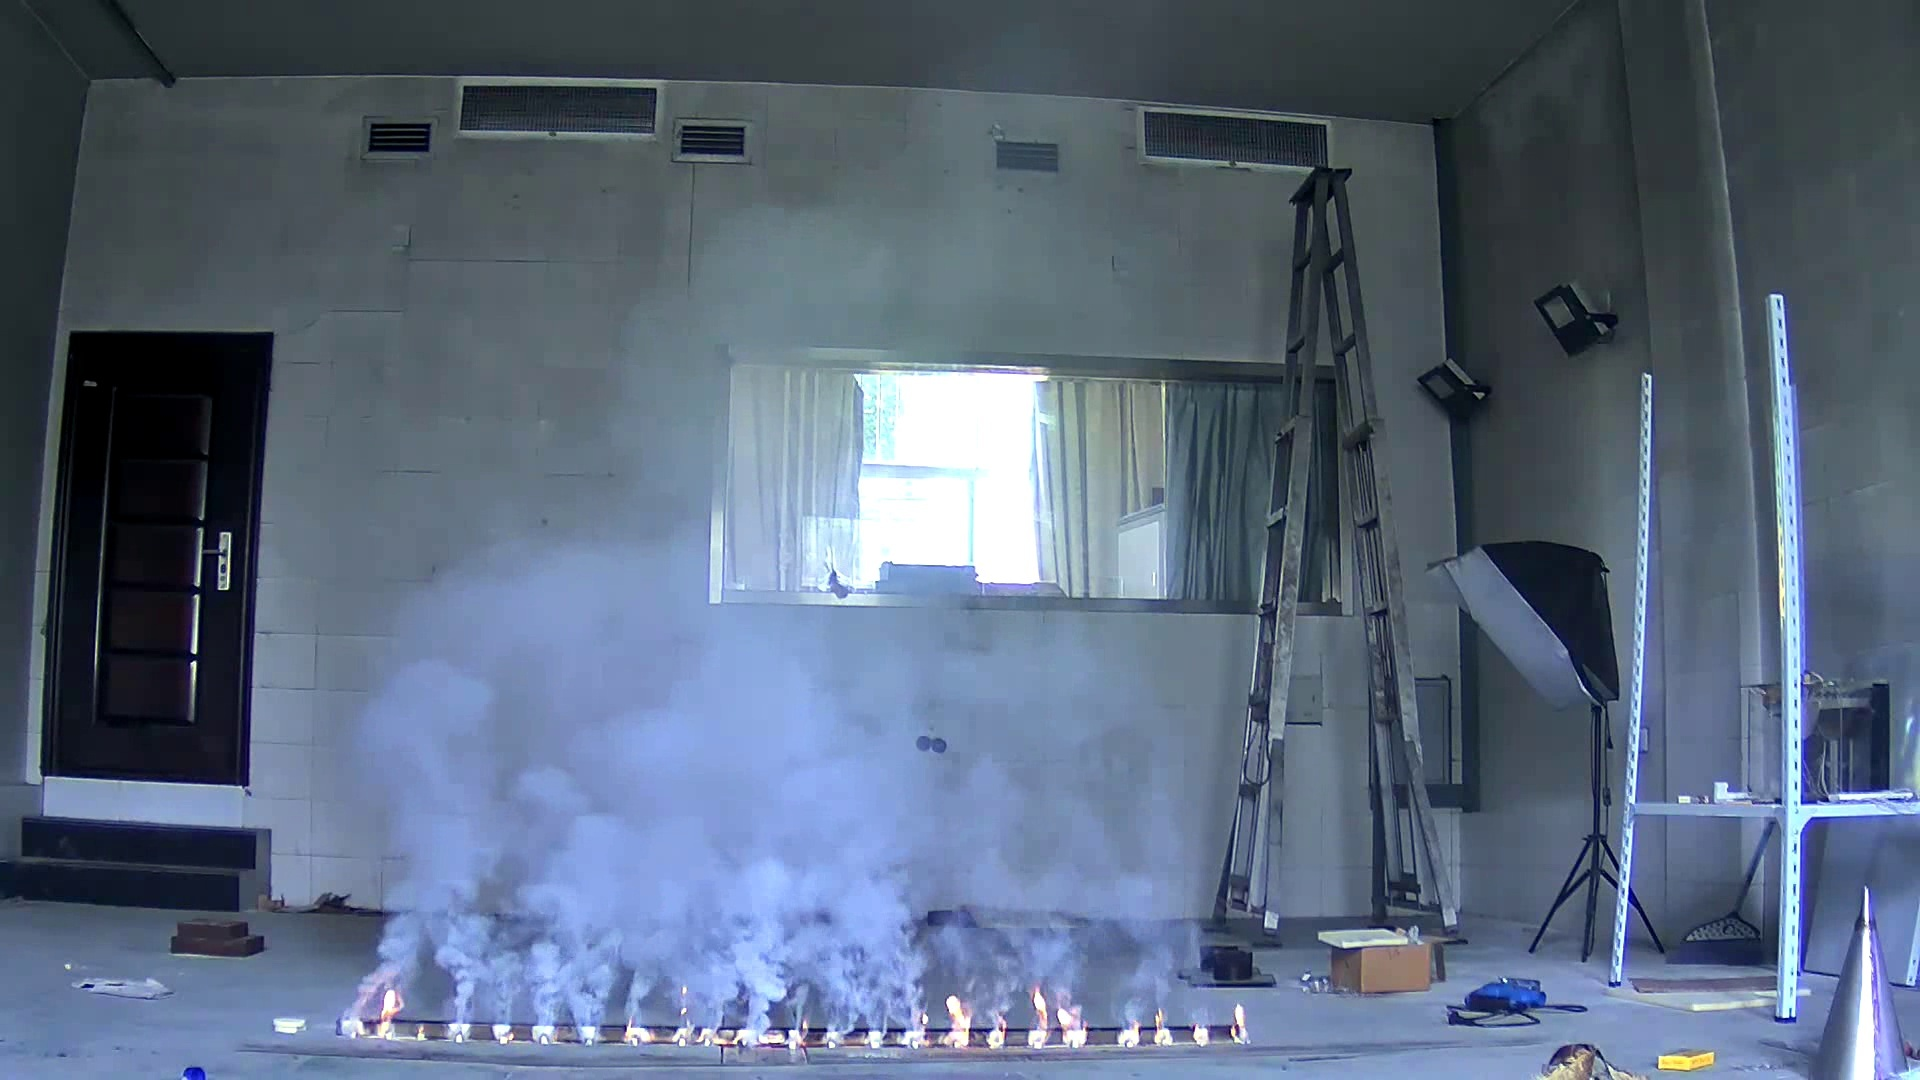smoke: (327, 502, 661, 1040), (661, 563, 949, 1044), (949, 613, 1221, 1025)
